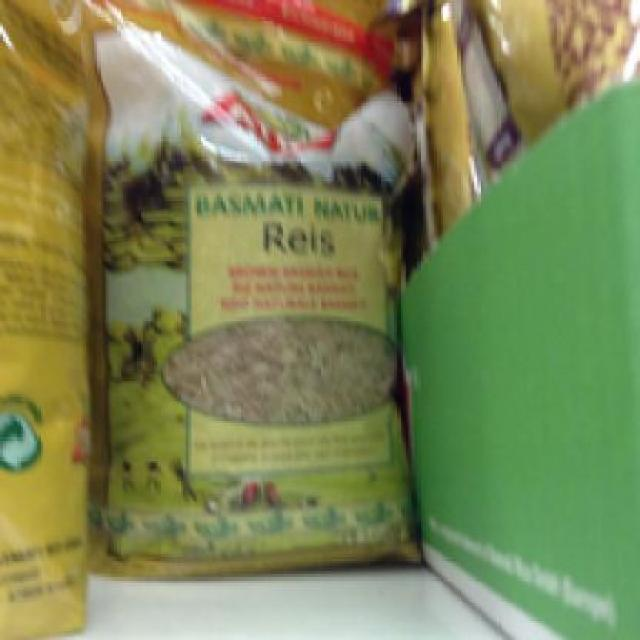Rice: (80, 2, 414, 568)
